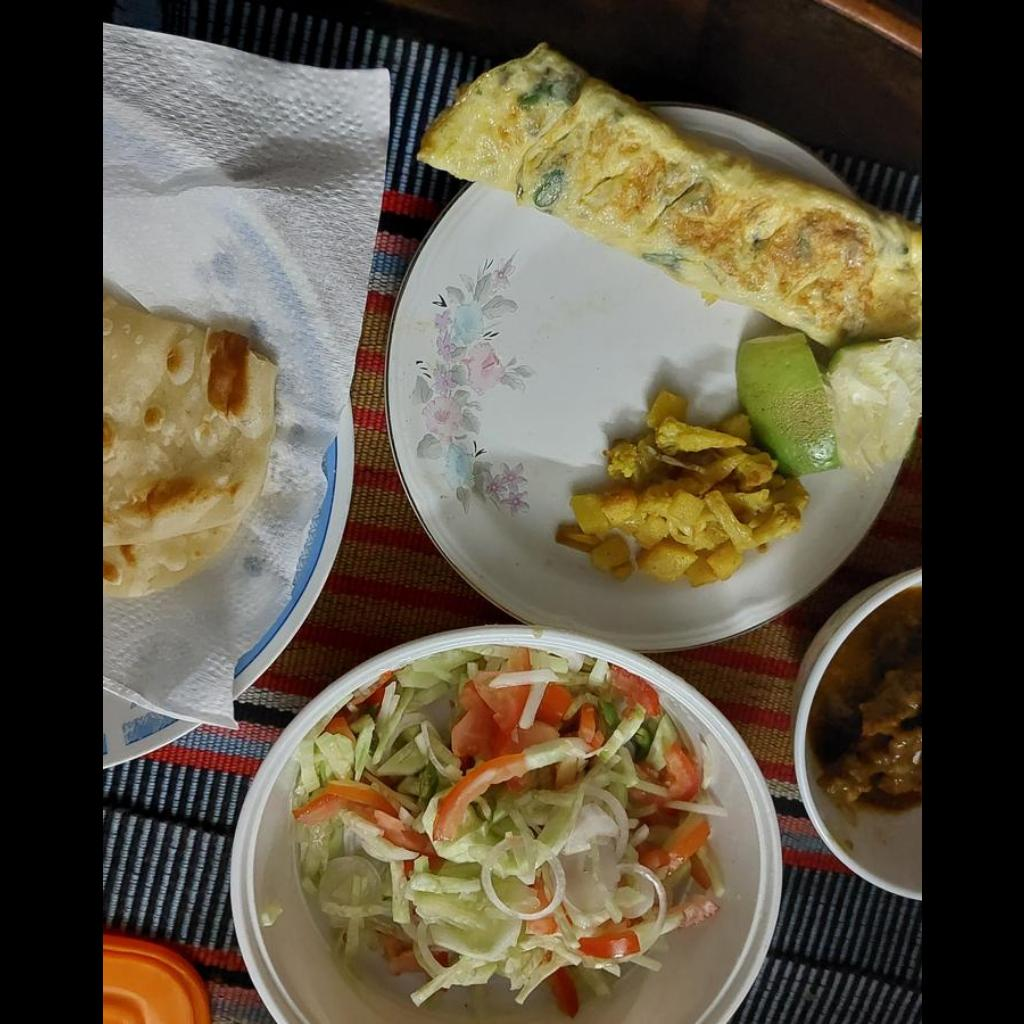beef: (820, 651, 920, 808)
egg-poached: (414, 45, 920, 350)
lemon: (736, 335, 843, 476)
ruti: (103, 299, 272, 596)
salad: (295, 654, 721, 1010)
vaji: (551, 391, 811, 584)
